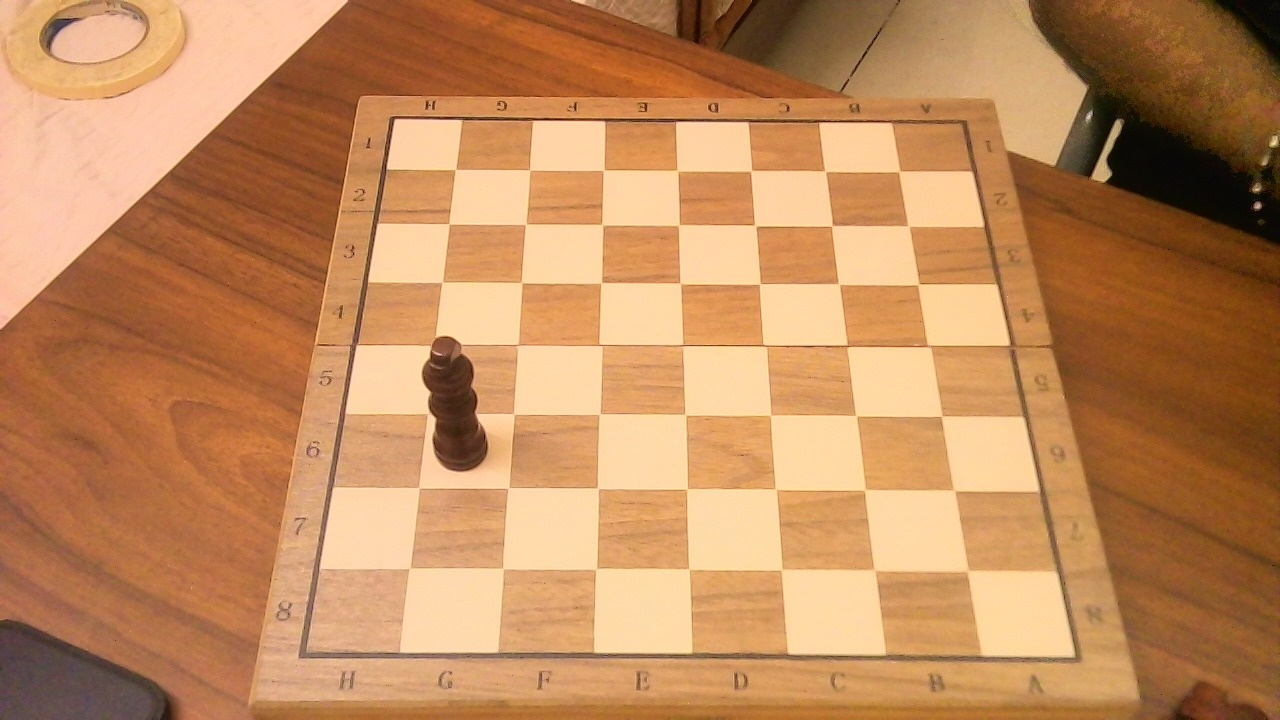k: (418, 323, 505, 477)
